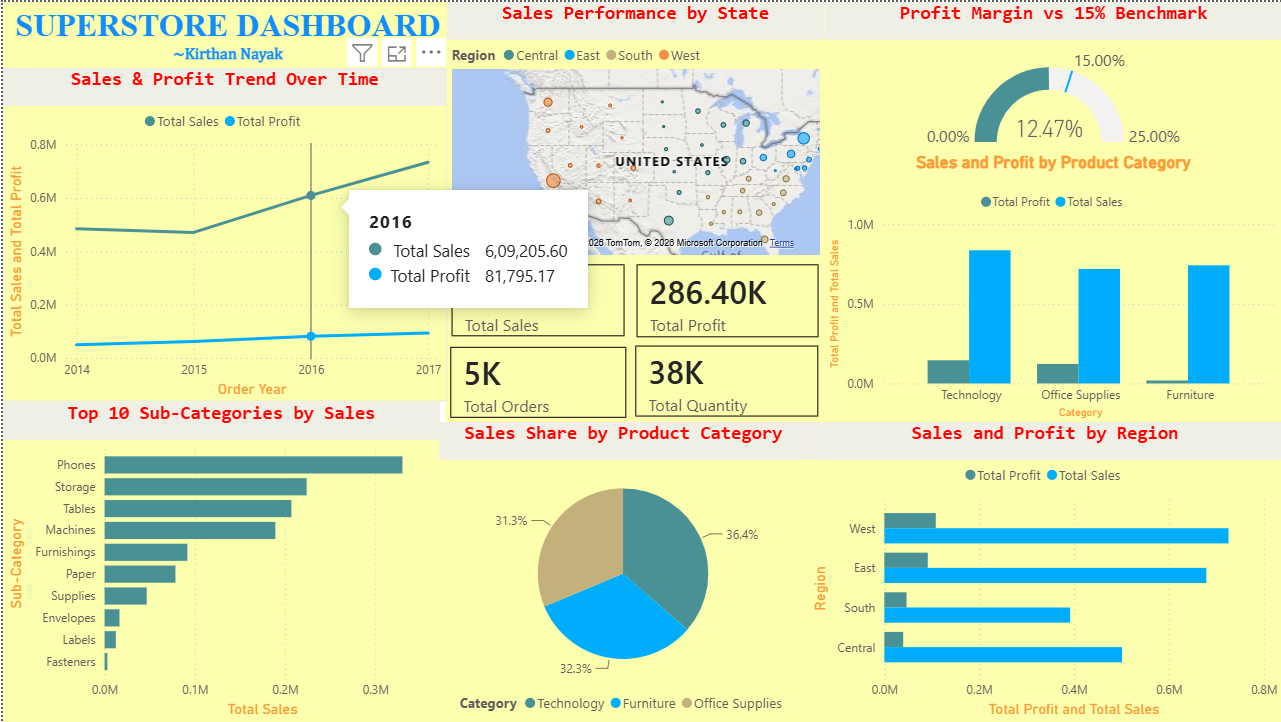

This screenshot's page, from the dashboard's own definition file:
{"tool":"powerbi","page":{"name":"Page 1","canvas":[1280,720],"ordinal":0},"visuals":[{"type":"textbox","box":[0,0,450,75],"z":0},{"type":"cardVisual","fields":{"Data":["Superstore.Total Orders"]},"box":[442,340,186,81],"z":1000},{"type":"cardVisual","fields":{"Data":["Superstore.Total Sales"]},"box":[443.8,257.5,183.8,82.5],"z":2000},{"type":"cardVisual","fields":{"Data":["Superstore.Total Profit"]},"box":[628.8,257.5,192.5,83.8],"z":3000},{"type":"cardVisual","fields":{"Data":["Superstore.Total Quantity"]},"box":[627.5,338.8,193.8,81.2],"z":4000},{"type":"lineChart","title":"Sales & Profit Trend Over Time","fields":{"Y":["Superstore.Total Sales","Superstore.Total Profit"],"Category":["Superstore.Order Year"]},"box":[0,66.7,443.3,333.3],"z":5000},{"type":"clusteredColumnChart","title":"Sales and Profit by Product Category","fields":{"Category":["Superstore.Category"],"Y":["Superstore.Total Profit","Superstore.Total Sales"]},"box":[821.2,150,458.8,271.2],"z":6000},{"type":"clusteredBarChart","title":"Sales and Profit by Region","fields":{"Category":["Superstore.Region"],"Y":["Superstore.Total Profit","Superstore.Total Sales"]},"box":[803.8,420,476.2,300],"z":7000},{"type":"clusteredBarChart","title":"Top 10 Sub-Categories by Sales","fields":{"Category":["Superstore.Sub-Category"],"Y":["Superstore.Total Sales"]},"box":[0,400,436.7,320],"z":8000},{"type":"pieChart","title":"Sales Share by Product Category","fields":{"Category":["Superstore.Category"],"Y":["Superstore.Total Sales"]},"box":[436,420,368,300],"z":9000},{"type":"gauge","title":"Profit Margin vs 15% Benchmark","fields":{"MaxValue":["Superstore.Max Profit Margin"],"TargetValue":["Superstore.Target Profit Margin"],"Y":["Superstore.Profit Margin"]},"box":[821.2,0,458.8,150],"z":10000},{"type":"map","title":"Sales Performance by State","fields":{"Category":["Superstore.State"],"Size":["Superstore.Total Sales"],"Series":["Superstore.Region"]},"box":[443.8,0,377.5,257.5],"z":11000}]}

Visuals, with their boxes in screenshot pixels (x1, y1, x2, y2), scaled from the page's 1280x720 canvas onto the 1281x722 screenshot:
textbox: bbox=[0, 0, 450, 75]
cardVisual - Superstore.Total Orders: bbox=[442, 341, 628, 422]
cardVisual - Superstore.Total Sales: bbox=[444, 258, 628, 341]
cardVisual - Superstore.Total Profit: bbox=[629, 258, 822, 342]
cardVisual - Superstore.Total Quantity: bbox=[628, 340, 822, 421]
"Sales & Profit Trend Over Time" lineChart: bbox=[0, 67, 444, 401]
"Sales and Profit by Product Category" clusteredColumnChart: bbox=[822, 150, 1280, 422]
"Sales and Profit by Region" clusteredBarChart: bbox=[804, 421, 1280, 721]
"Top 10 Sub-Categories by Sales" clusteredBarChart: bbox=[0, 401, 437, 721]
"Sales Share by Product Category" pieChart: bbox=[436, 421, 805, 721]
"Profit Margin vs 15% Benchmark" gauge: bbox=[822, 0, 1280, 150]
"Sales Performance by State" map: bbox=[444, 0, 822, 258]
